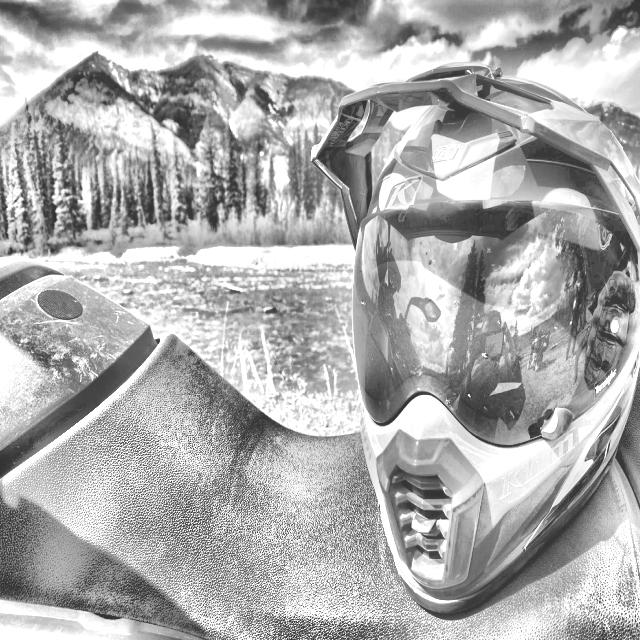Helmet: (297, 56, 640, 630)
